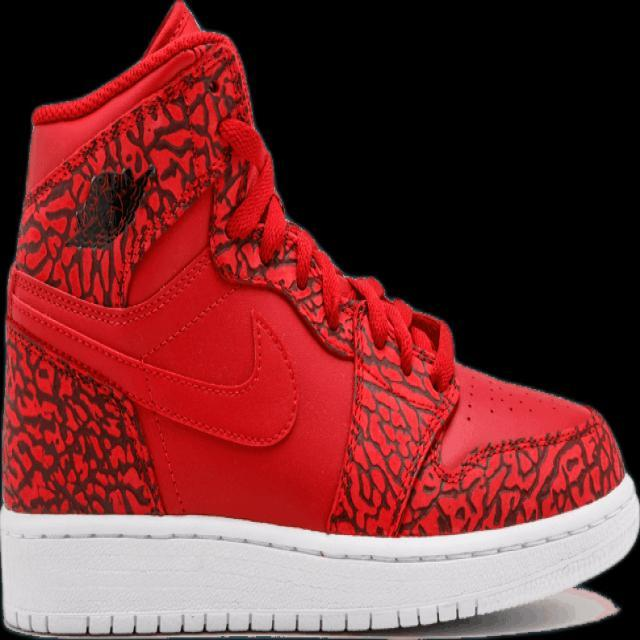J1_InsoleChar: (0, 0, 639, 639)
J1_ShoeLogo: (63, 161, 155, 250)
J1_StitchPattern: (1, 313, 625, 551), (14, 45, 246, 307), (1, 480, 638, 567), (325, 296, 460, 536), (0, 325, 166, 516), (396, 408, 624, 536), (7, 598, 483, 638)
